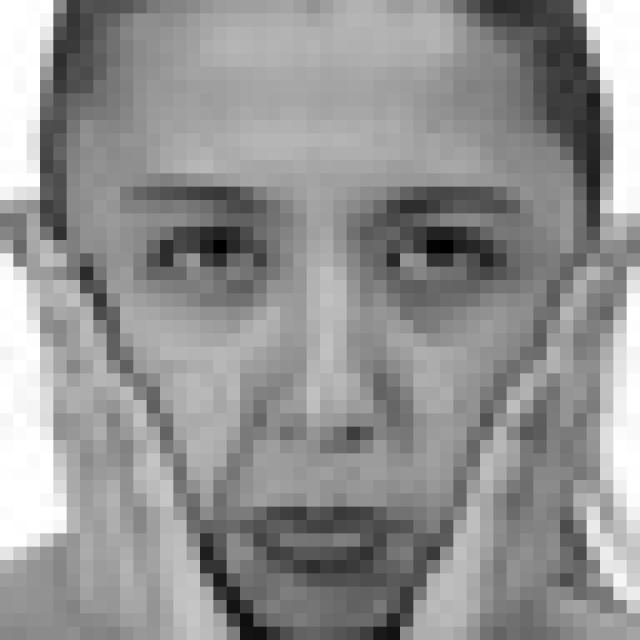sad: (129, 174, 526, 585)
